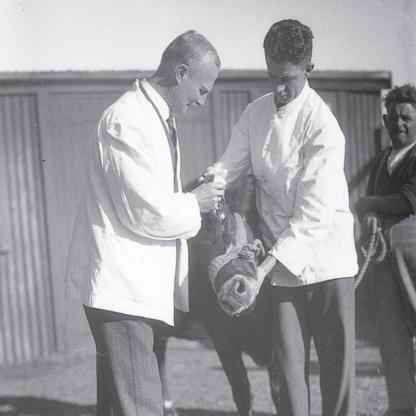face: (183, 58, 219, 117), (270, 62, 305, 105), (386, 107, 416, 144)
